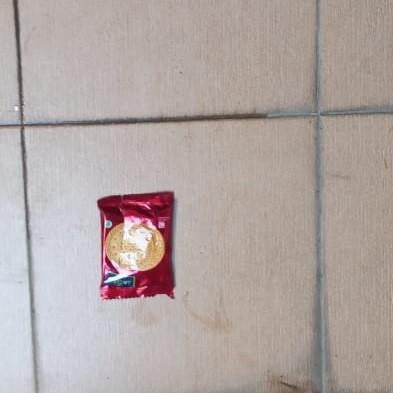Plastik: (97, 191, 176, 300)
